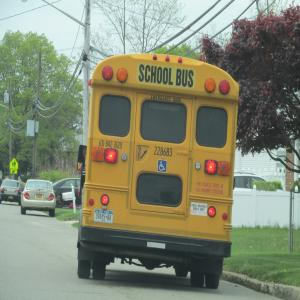Vehicle-registration-plate: (95, 212, 114, 224), (38, 195, 44, 200)
